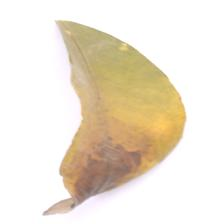black spot: (50, 138, 151, 196)
